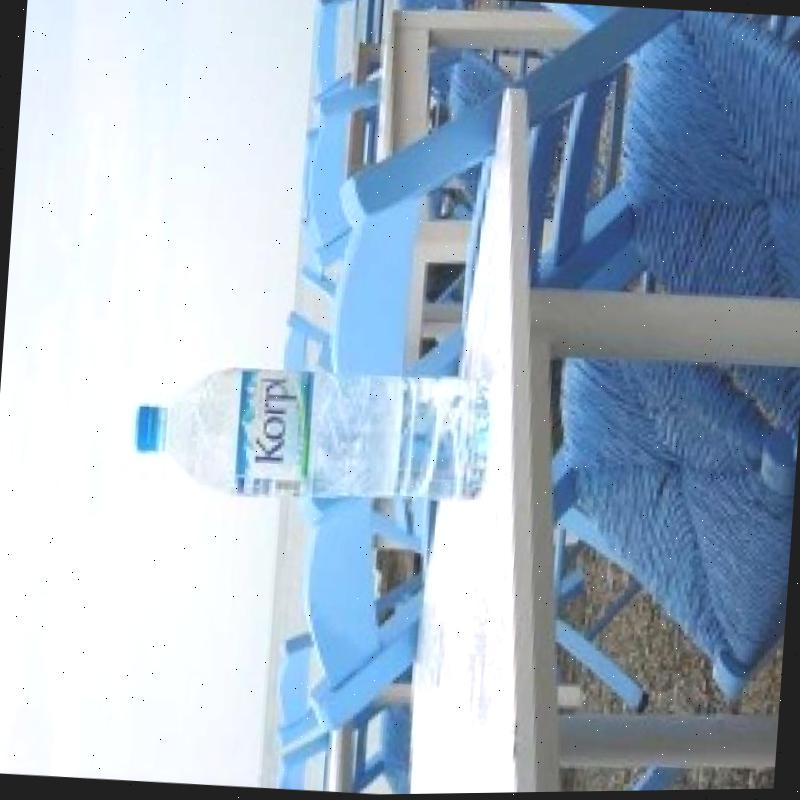botella: (126, 357, 496, 522)
